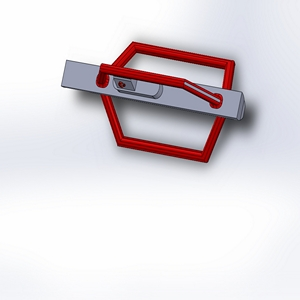submarine: (50, 36, 262, 180)
